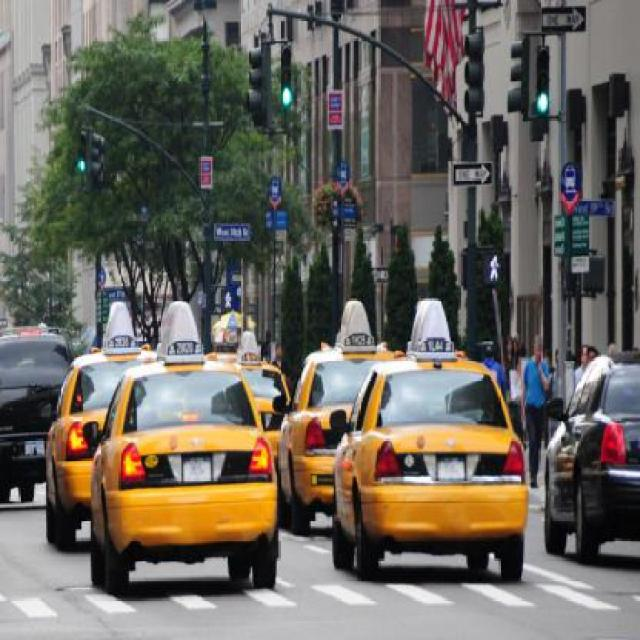Licenseplate: (182, 455, 213, 483), (437, 457, 464, 481), (25, 439, 48, 461)
